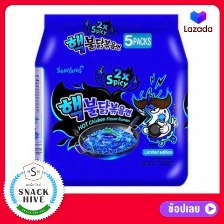snack: (27, 8, 197, 192)
